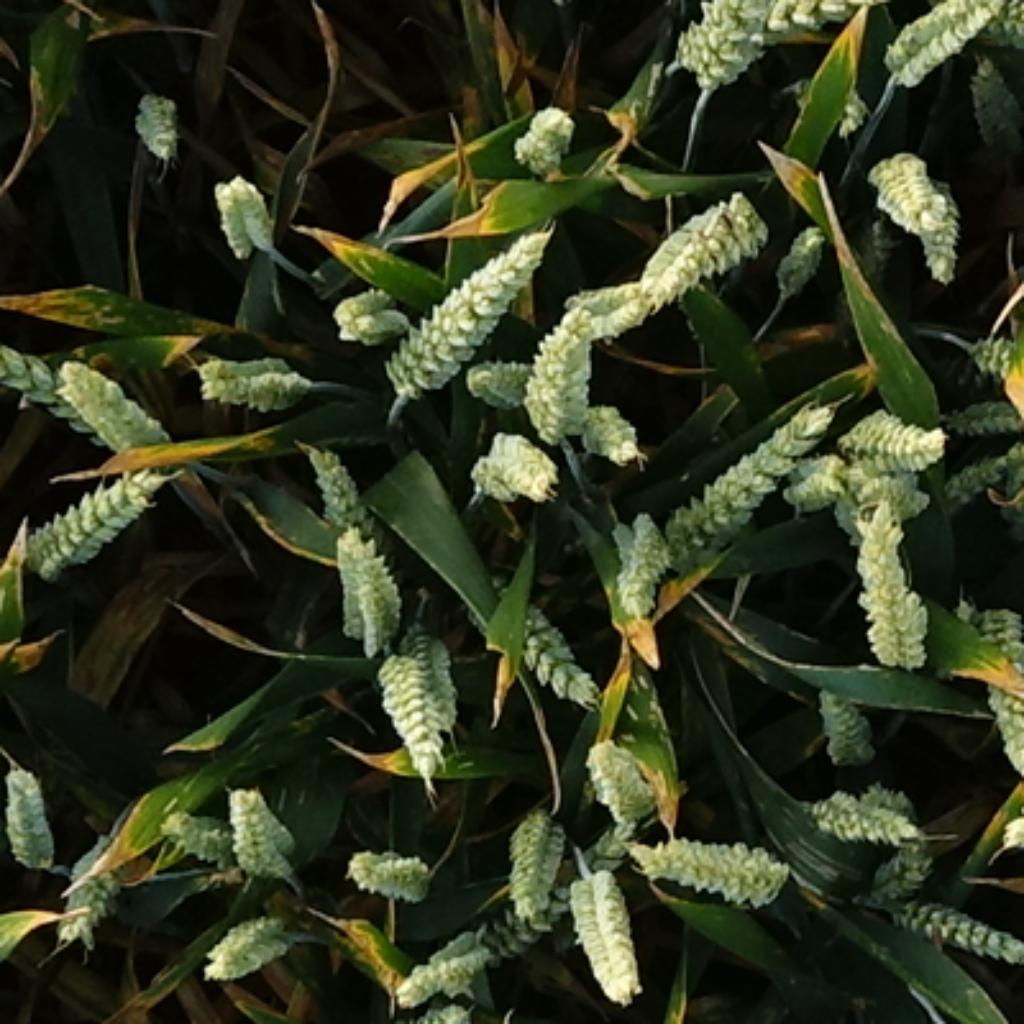0-0: (386, 220, 550, 407), (660, 386, 824, 565), (499, 808, 640, 970), (20, 460, 174, 591), (629, 189, 773, 317), (2, 345, 168, 450), (705, 0, 882, 90), (547, 865, 647, 1024), (637, 821, 783, 926), (844, 506, 936, 665), (491, 578, 601, 704), (519, 291, 614, 432), (965, 573, 1024, 798), (878, 875, 1024, 962), (880, 2, 1021, 87), (360, 647, 440, 796), (660, 2, 821, 74), (325, 514, 407, 637), (386, 924, 509, 1006), (860, 133, 952, 238), (189, 337, 317, 407), (798, 775, 924, 842), (504, 801, 565, 929), (56, 844, 138, 936), (222, 775, 299, 872), (409, 622, 463, 757), (204, 901, 302, 975), (583, 727, 663, 816), (468, 417, 558, 496), (837, 401, 944, 465), (302, 437, 376, 527), (2, 755, 61, 865), (212, 163, 284, 250), (936, 435, 1024, 506), (563, 281, 660, 345), (916, 176, 972, 284), (343, 834, 440, 896), (965, 53, 1024, 153), (506, 92, 581, 168), (325, 279, 409, 343), (811, 680, 878, 760), (790, 75, 880, 134), (611, 517, 660, 622), (158, 798, 238, 862), (775, 450, 855, 514), (960, 317, 1024, 394), (125, 76, 186, 156), (570, 386, 640, 455), (844, 463, 929, 519), (773, 215, 832, 291), (862, 829, 931, 893), (855, 780, 931, 834), (939, 389, 1024, 435), (629, 504, 678, 583), (951, 0, 1024, 53), (460, 348, 529, 399), (855, 209, 903, 281), (384, 988, 478, 1024)
